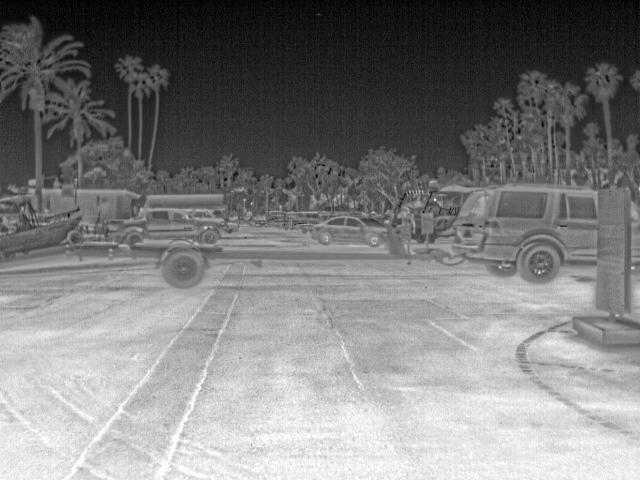car: (451, 183, 596, 283), (309, 214, 385, 246)
person: (396, 206, 415, 253)
